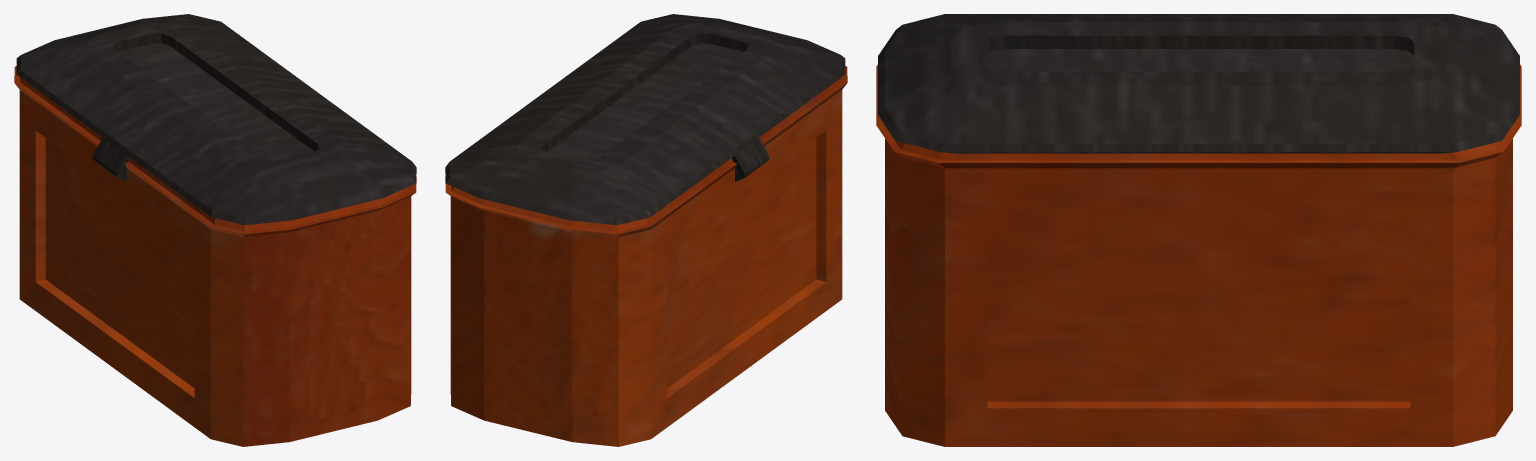
File: chest.glb
3 views of the same model, side by side, from view 1: azimuth 30°, elevation 25°; view 2: azimuth 150°, elevation 25°; view 3: azimuth 270°, elevation 25° (orthographic). The views are drawn at different scales.
Visible parts, largest first — view 1: chest, lid; view 2: chest, lid; view 3: chest, lid.
Part boxes in pixels (x1,y1,x2,y2): chest: (14, 66, 416, 446); lid: (16, 14, 416, 225); chest: (445, 66, 847, 446); lid: (445, 14, 845, 225); chest: (876, 64, 1521, 446); lid: (878, 14, 1519, 153).
Bounding box in the file's own units: 2.14 × 2.36 × 4.2.
Materials: 1 (1 with a texture image).
